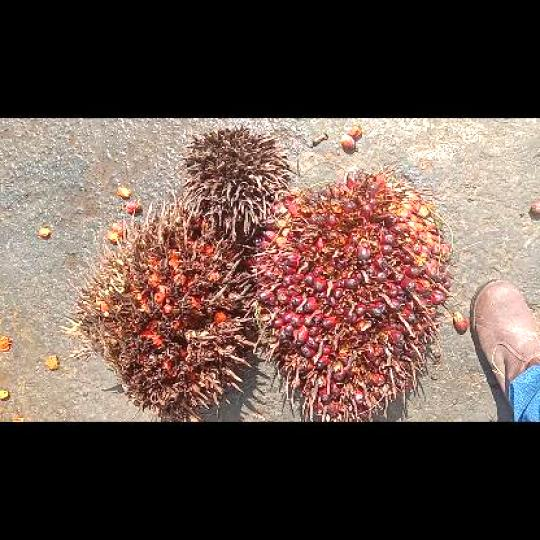masak: (248, 166, 450, 421)
terlalu masak: (64, 200, 258, 420)
